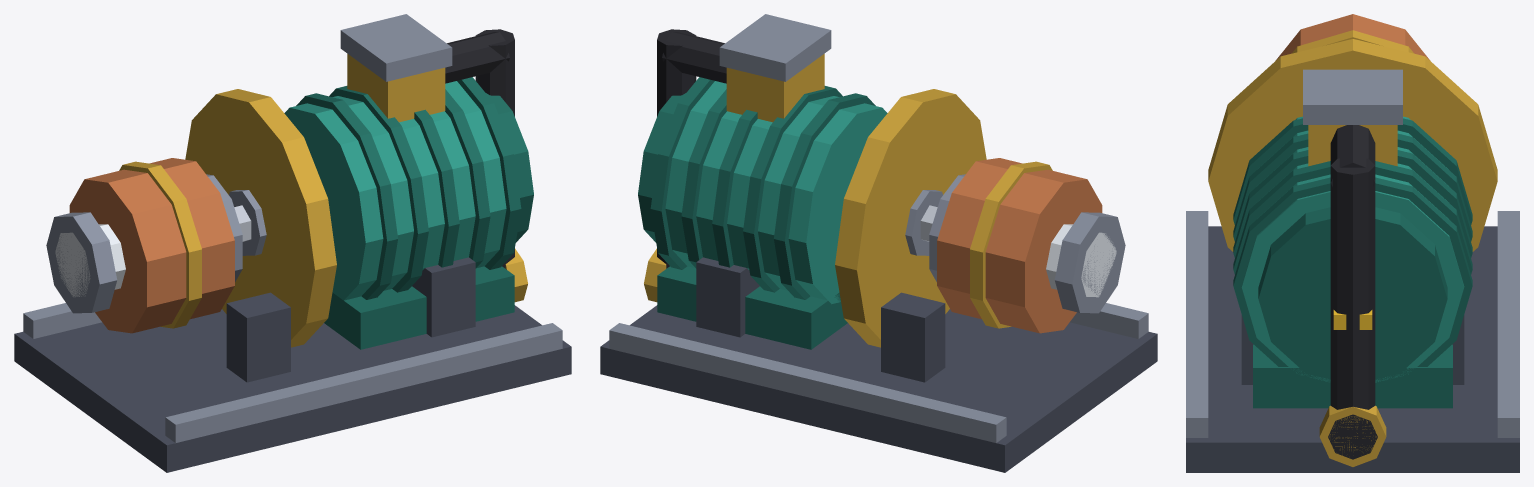
Rendered from alternator.glb.
The picture shows the model from 3 angles, left to right: view 1: azimuth 30°, elevation 25°; view 2: azimuth 150°, elevation 25°; view 3: azimuth 270°, elevation 25°; orthographic projection. The views are drawn at different scales.
Parts seen in each view (by area): view 1: alternator, spin-x; view 2: alternator, spin-x; view 3: alternator, spin-x.
Boxes of the visible parts, left/top/right/bottom form: alternator: left=14, top=14, right=571, bottom=472; spin-x: left=185, top=89, right=336, bottom=347; alternator: left=600, top=14, right=1157, bottom=472; spin-x: left=835, top=89, right=986, bottom=347; alternator: left=1186, top=14, right=1519, bottom=472; spin-x: left=1208, top=39, right=1497, bottom=251.
Size of the model in its own units: 1 by 0.66 by 0.6.
2 materials, 2 textured.
